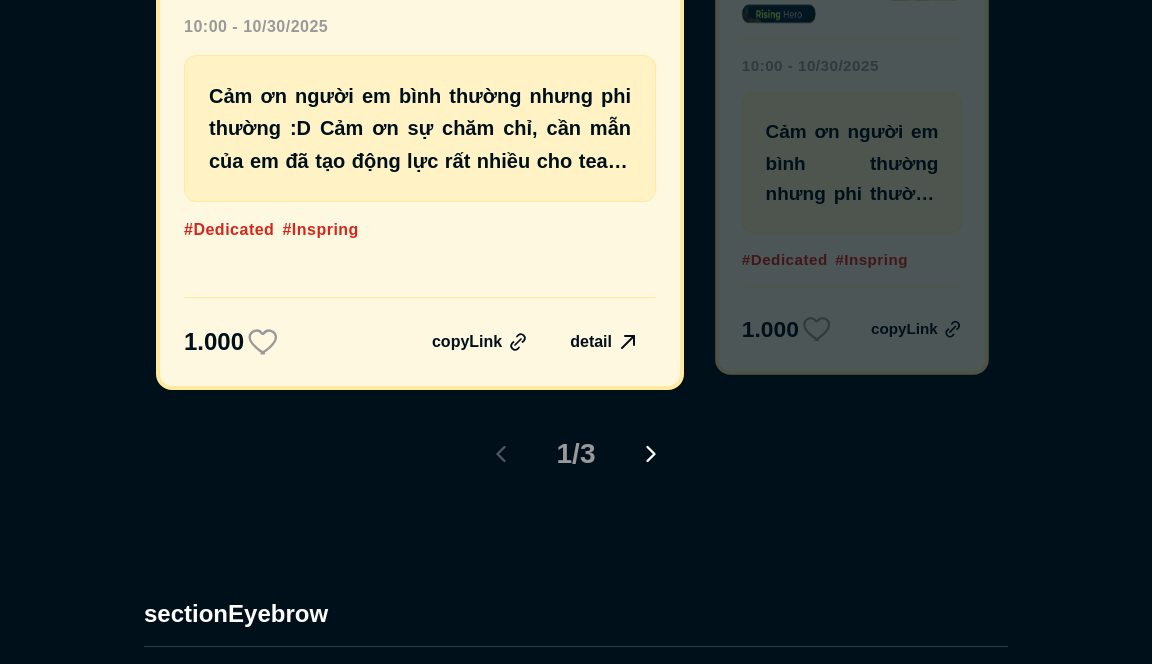
KudosBoardContainer › like toggle › shows a generic error toast and reverts when the action throws
(page scrolled)
Click the button "1.000" in the row of "detail" at (232, 342), box left=184, top=326, right=280, bottom=358
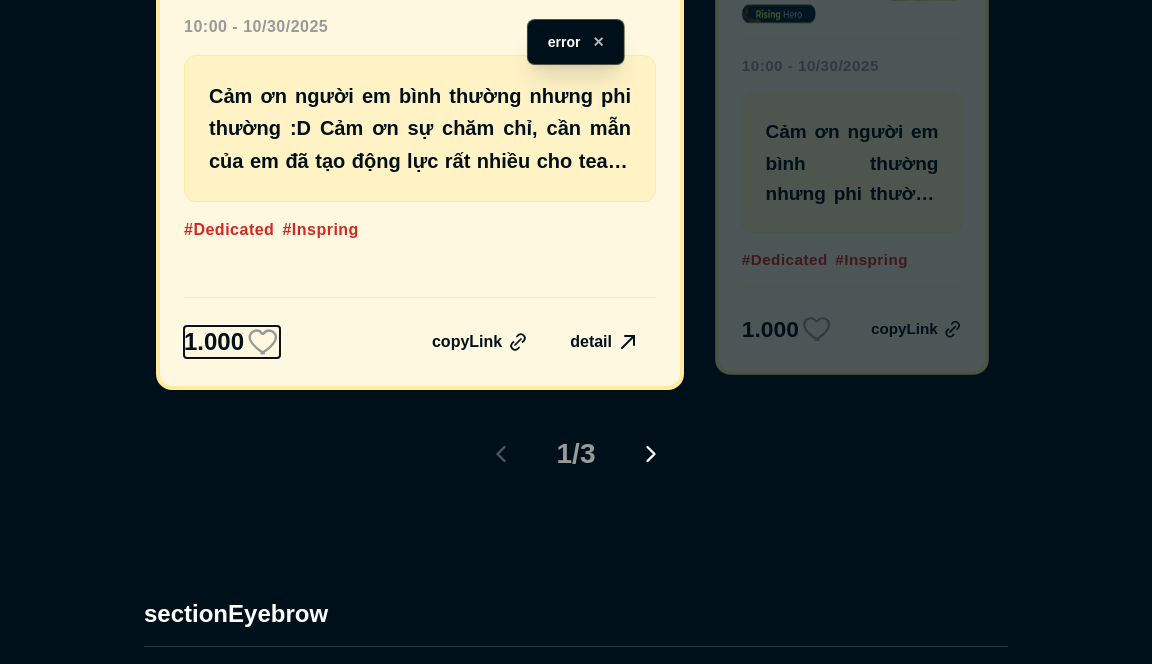
expect the message shows "error": met, box left=548, top=34, right=580, bottom=50
